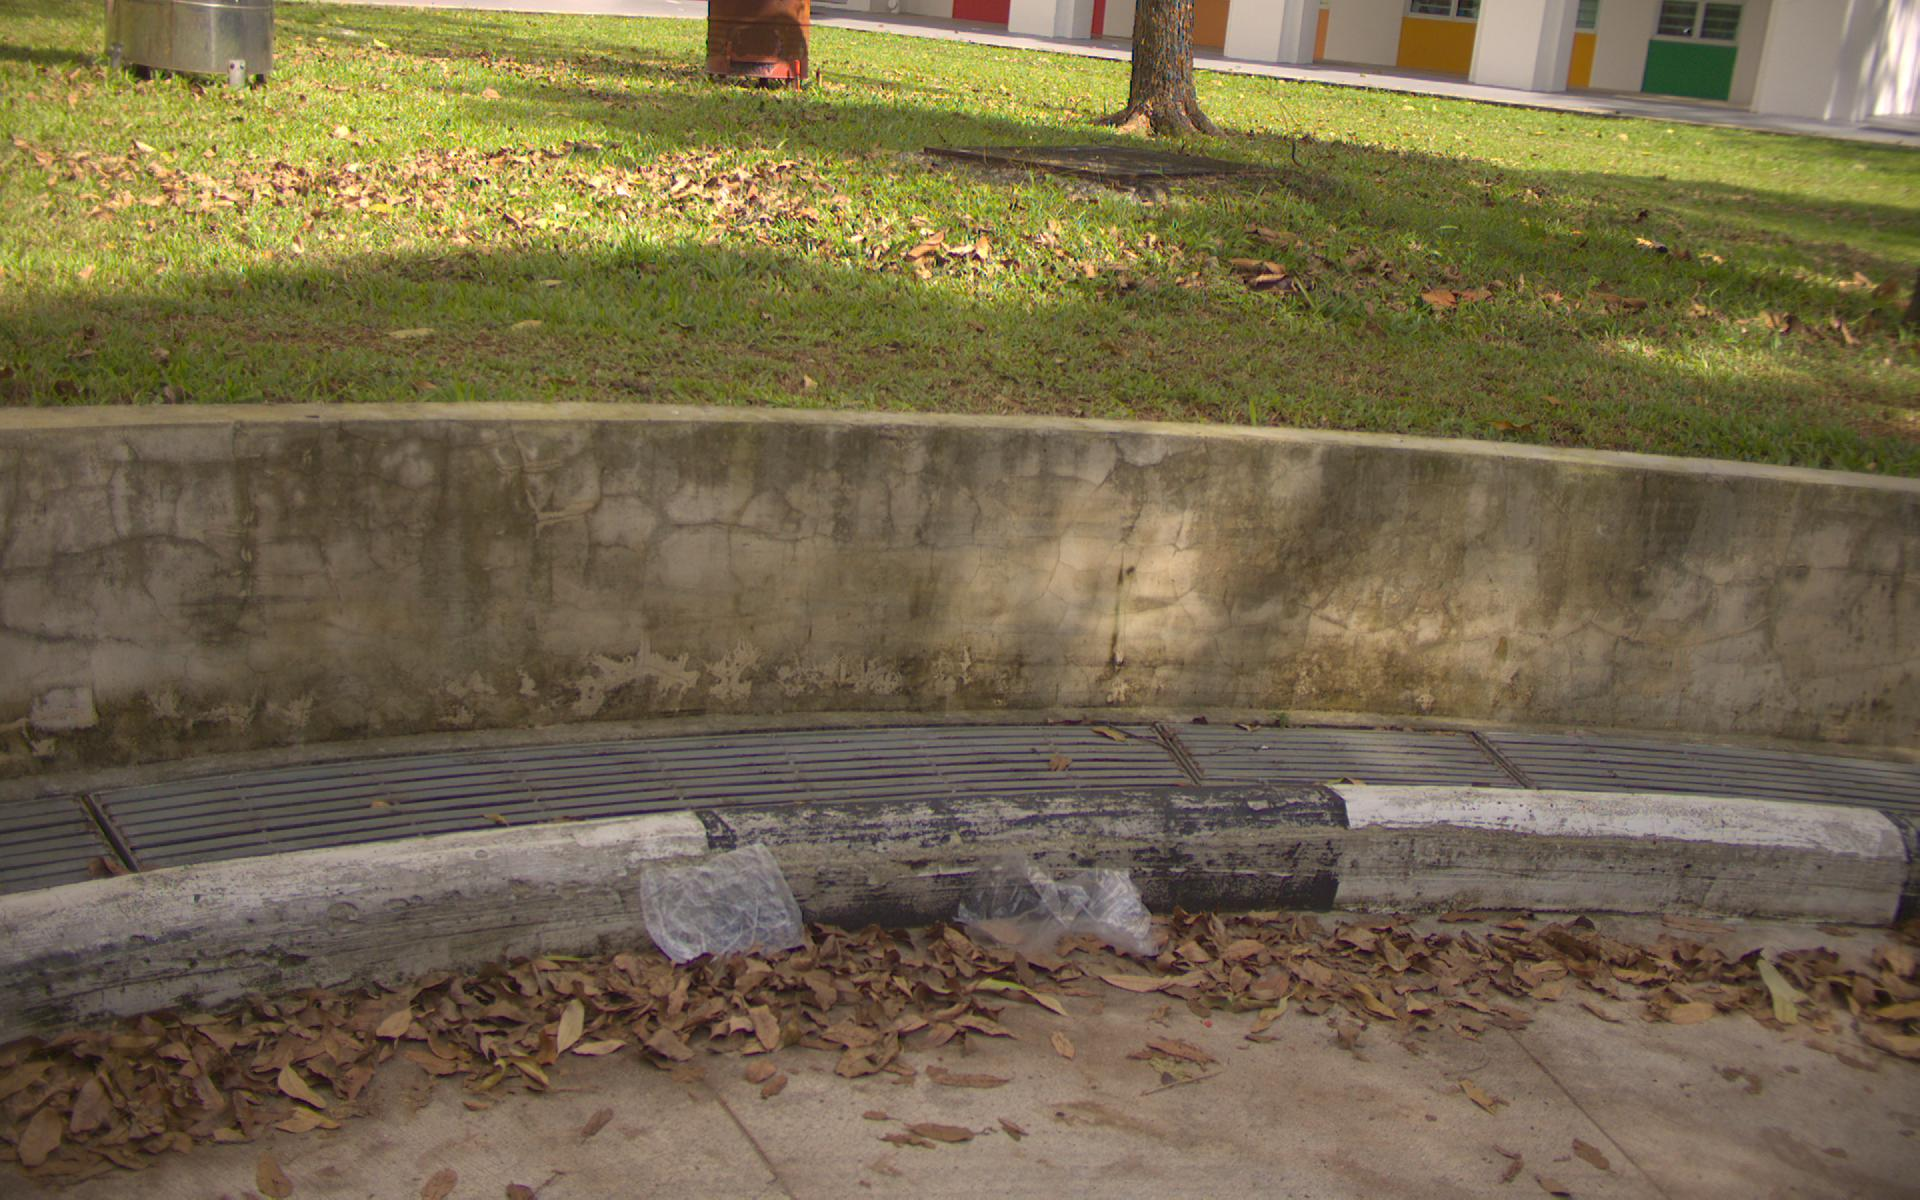curb_grill_low: (12, 718, 1910, 888)
road_curb_medium: (4, 883, 1910, 1183)
road_turf_low: (15, 41, 1906, 462)
